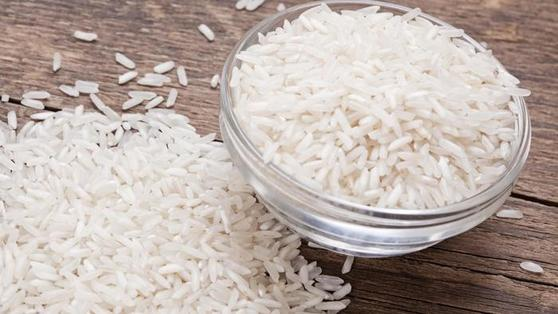rice: (248, 13, 526, 209), (13, 126, 250, 308)
